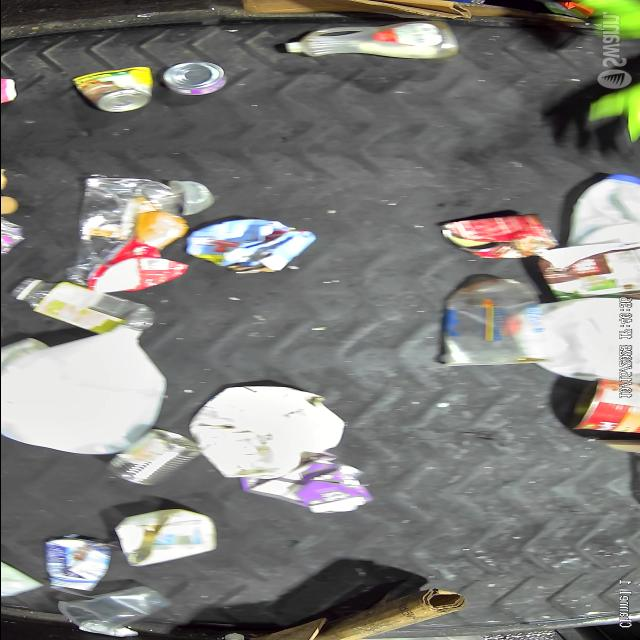can: (440, 212, 558, 258), (110, 428, 200, 484), (572, 376, 638, 432), (75, 69, 151, 109), (156, 60, 226, 98)
milk_jug: (6, 332, 166, 456), (527, 296, 638, 377), (559, 167, 639, 245)
plastic_bottle: (15, 276, 160, 336), (291, 18, 458, 62)
